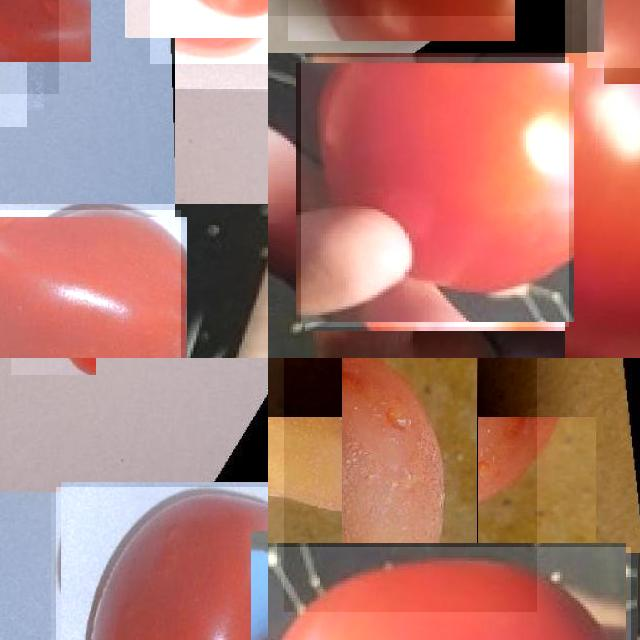Fresh Tomato: (301, 57, 569, 327), (284, 358, 537, 612), (268, 547, 631, 640), (55, 487, 268, 640), (0, 210, 181, 358), (565, 53, 640, 358), (149, 0, 268, 63)
